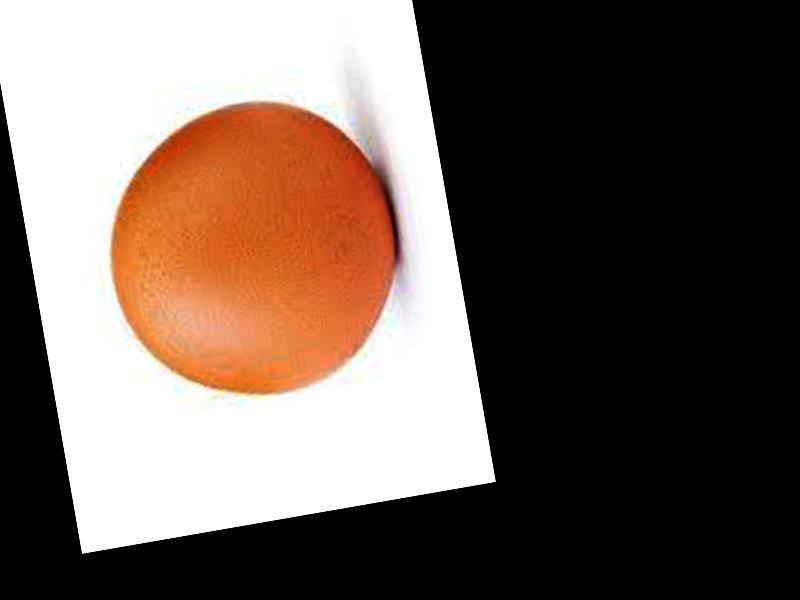Eggs: (91, 83, 416, 415)
